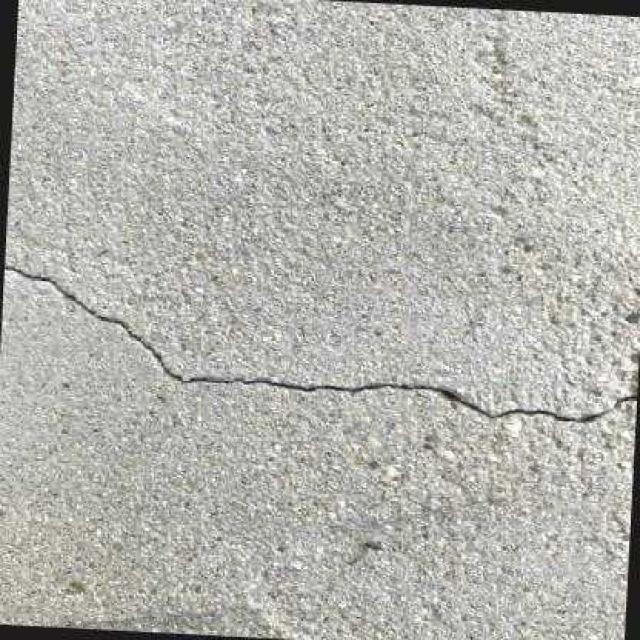D00: (2, 256, 637, 427)
